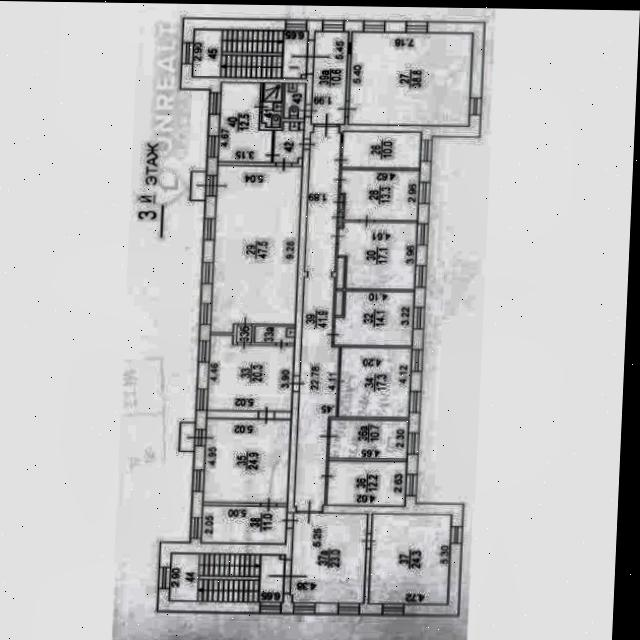room: (294, 124, 349, 511), (210, 162, 302, 335), (349, 31, 473, 125), (370, 511, 452, 605), (205, 415, 291, 504), (206, 333, 296, 414), (292, 511, 367, 603), (192, 29, 308, 78), (168, 553, 285, 601), (338, 221, 417, 289), (338, 347, 412, 417), (219, 81, 274, 162), (334, 290, 414, 345), (341, 169, 420, 220), (310, 30, 349, 125), (329, 459, 406, 506), (202, 504, 288, 543), (342, 130, 422, 168), (331, 419, 408, 457), (273, 120, 304, 163), (262, 82, 283, 127), (283, 82, 306, 118), (254, 325, 295, 343), (181, 421, 195, 449), (193, 170, 206, 198), (237, 325, 252, 342), (340, 194, 343, 209), (339, 212, 342, 226)
